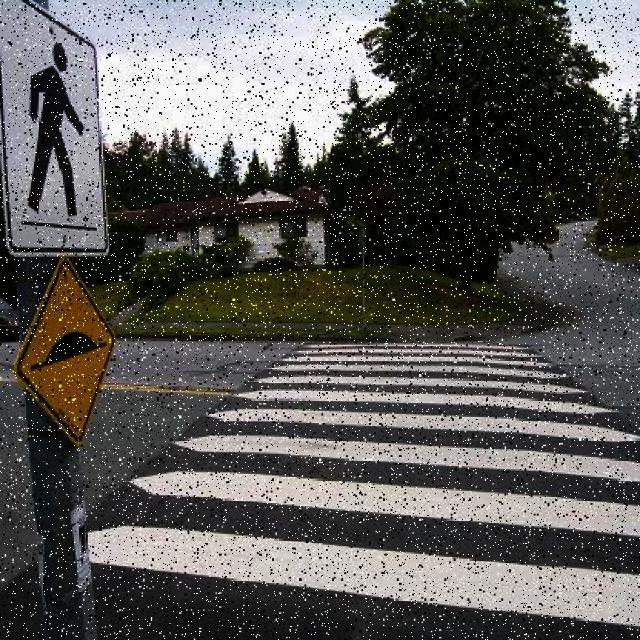Pedestrian crosswalk: (72, 311, 640, 628)
